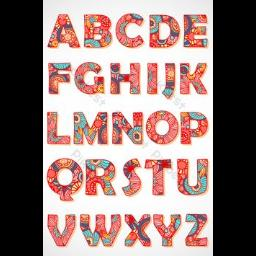a: (44, 4, 82, 50)
b: (82, 7, 116, 55), (182, 209, 212, 251)
c: (113, 8, 149, 50)
d: (142, 4, 184, 50)
e: (180, 8, 212, 48)
f: (45, 60, 73, 96)
g: (73, 58, 105, 98)
h: (108, 57, 140, 99)
i: (144, 57, 160, 99)
k: (180, 62, 208, 98)
l: (45, 109, 73, 149)
m: (72, 110, 110, 148)
n: (110, 109, 146, 147)
o: (146, 110, 180, 146)
p: (177, 104, 209, 148)
q: (44, 156, 86, 208), (46, 210, 78, 250)
r: (82, 154, 118, 196)
s: (116, 154, 144, 198)
t: (144, 151, 174, 201)
u: (176, 152, 210, 198)
w: (78, 206, 124, 248)
x: (120, 206, 158, 250)
y: (152, 207, 184, 251)
